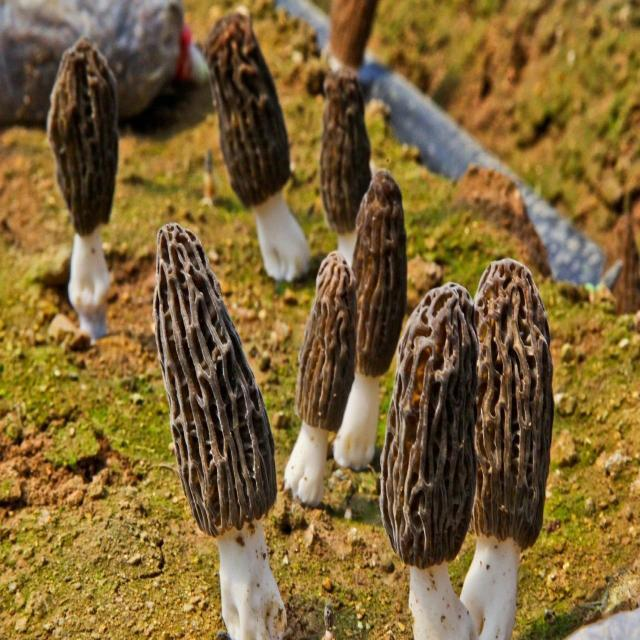Morchella esculenta: (155, 224, 286, 640), (380, 278, 479, 640), (466, 255, 552, 640), (207, 14, 309, 279), (333, 171, 407, 468), (48, 39, 117, 312), (286, 250, 357, 513), (314, 81, 371, 255)
